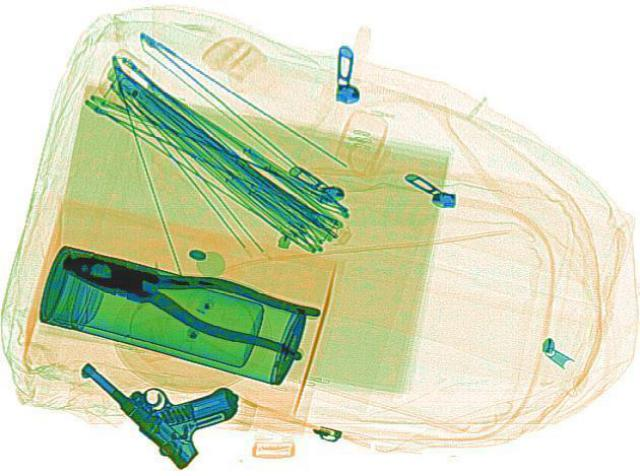Gun: (69, 324, 269, 467)
Pliers: (44, 236, 330, 358)
